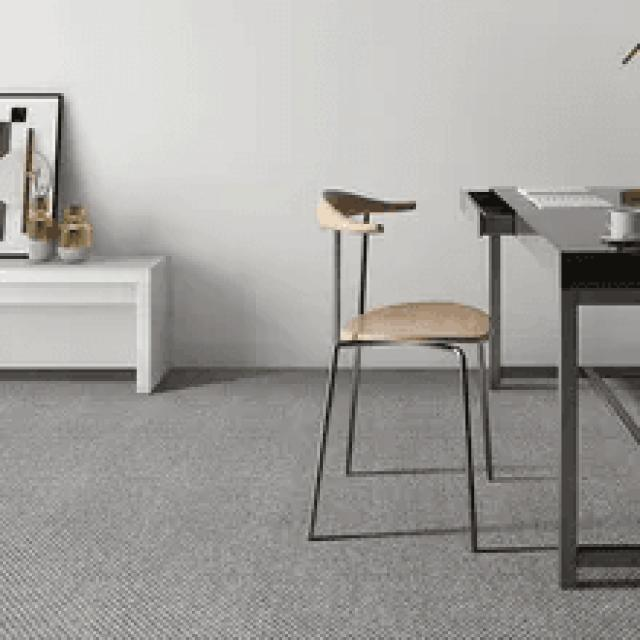chair: (304, 184, 498, 556), (316, 186, 494, 352)
